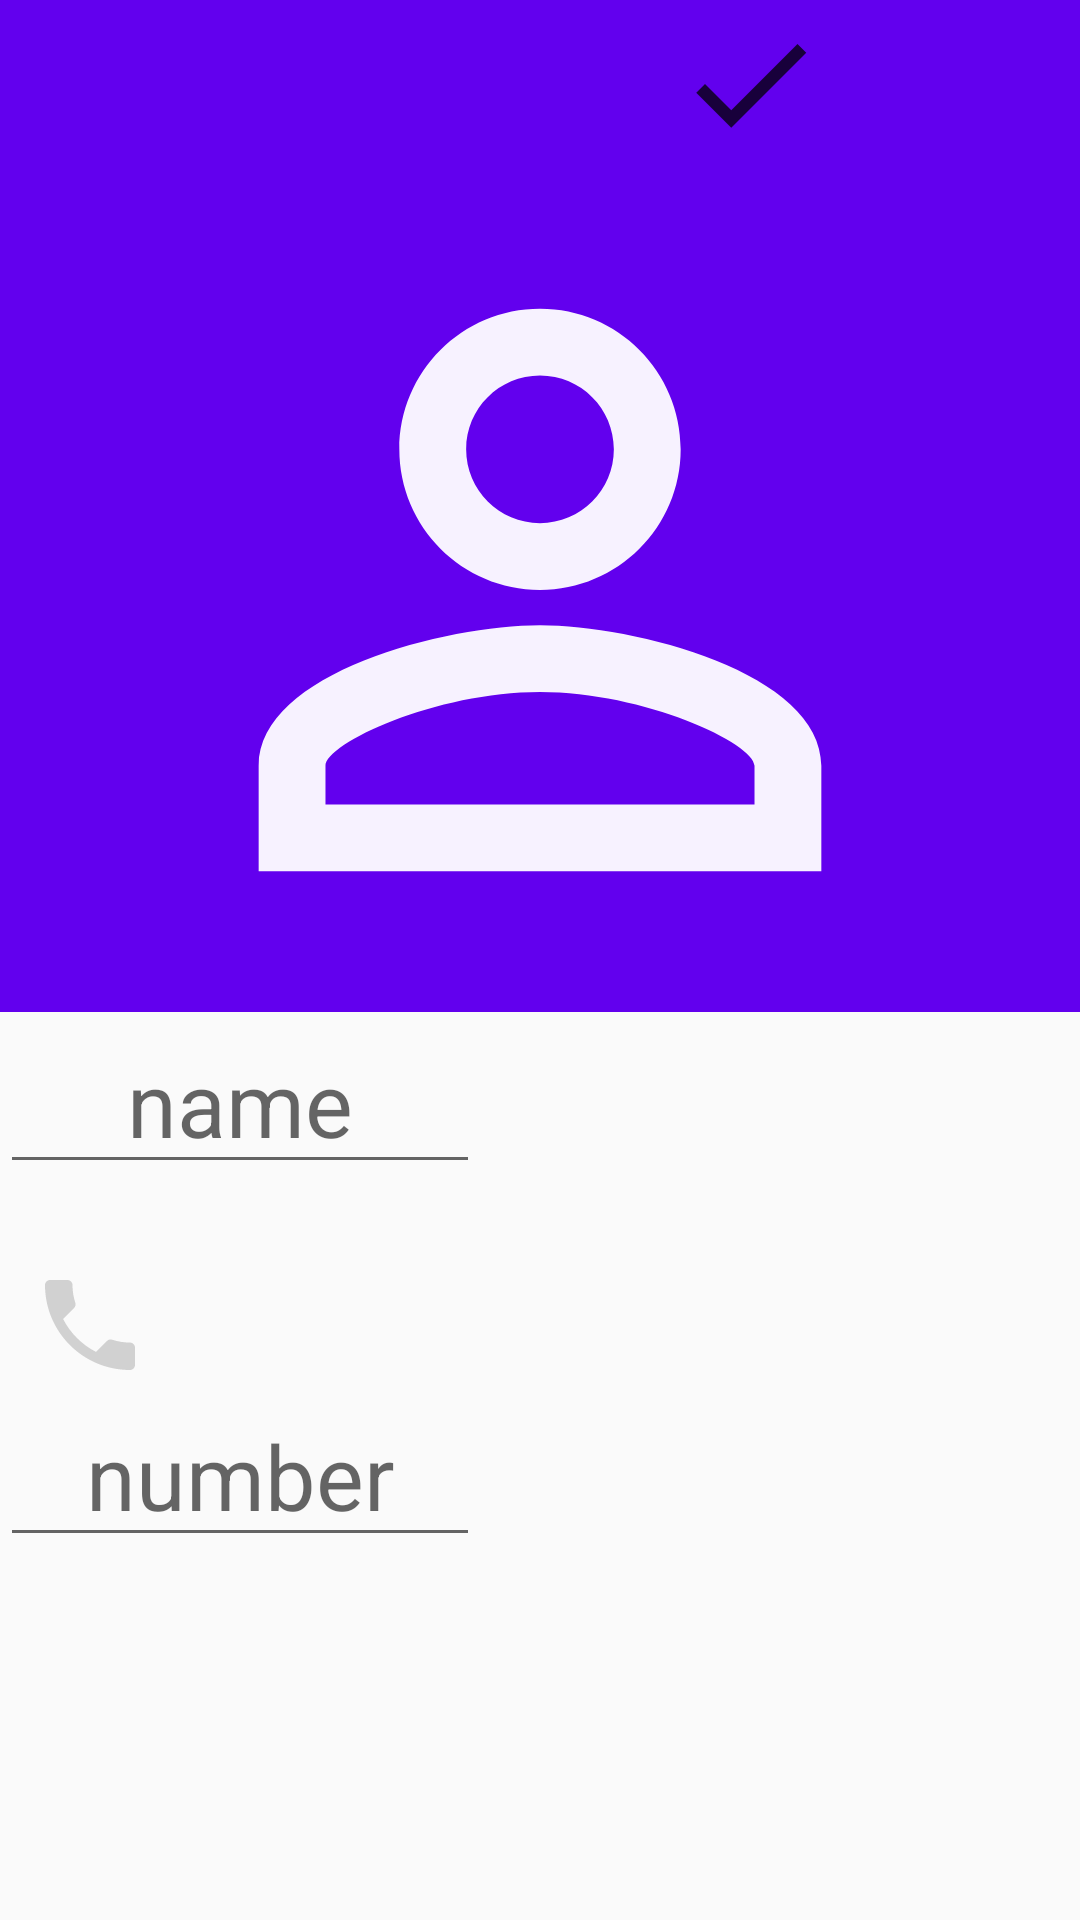

Where to tap for icons on this 1080×1920 app screen, as (x,y):
done: (751,86)
phone: (90,1325)
